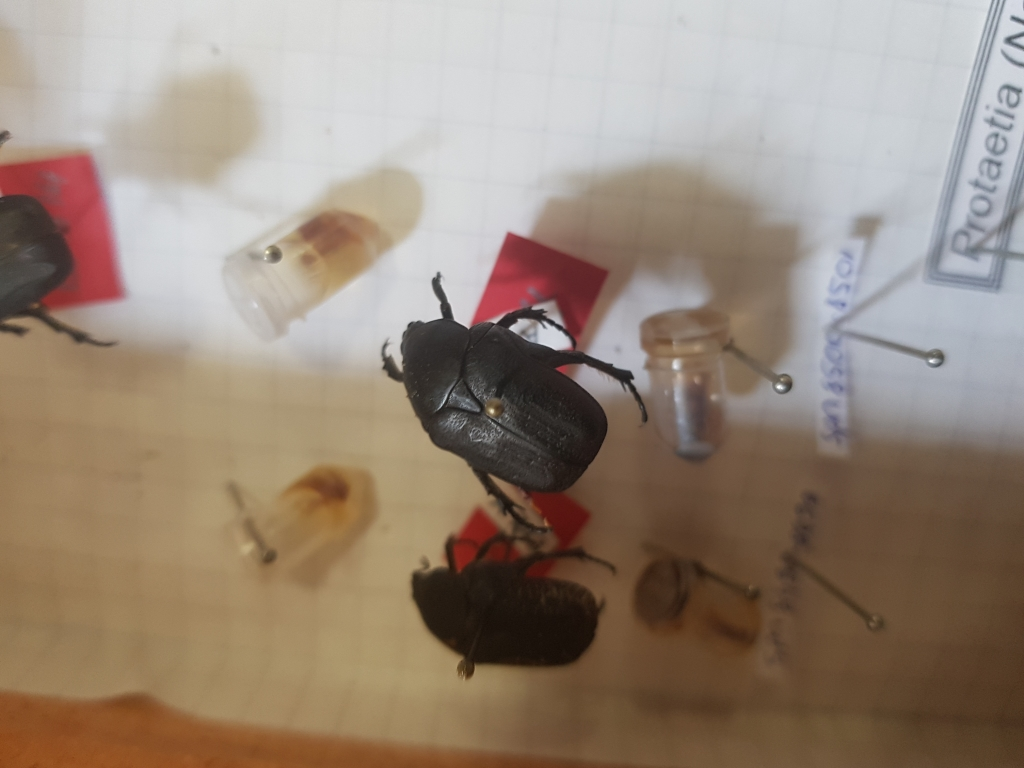Protaetia_vidua: (372, 266, 658, 539)
